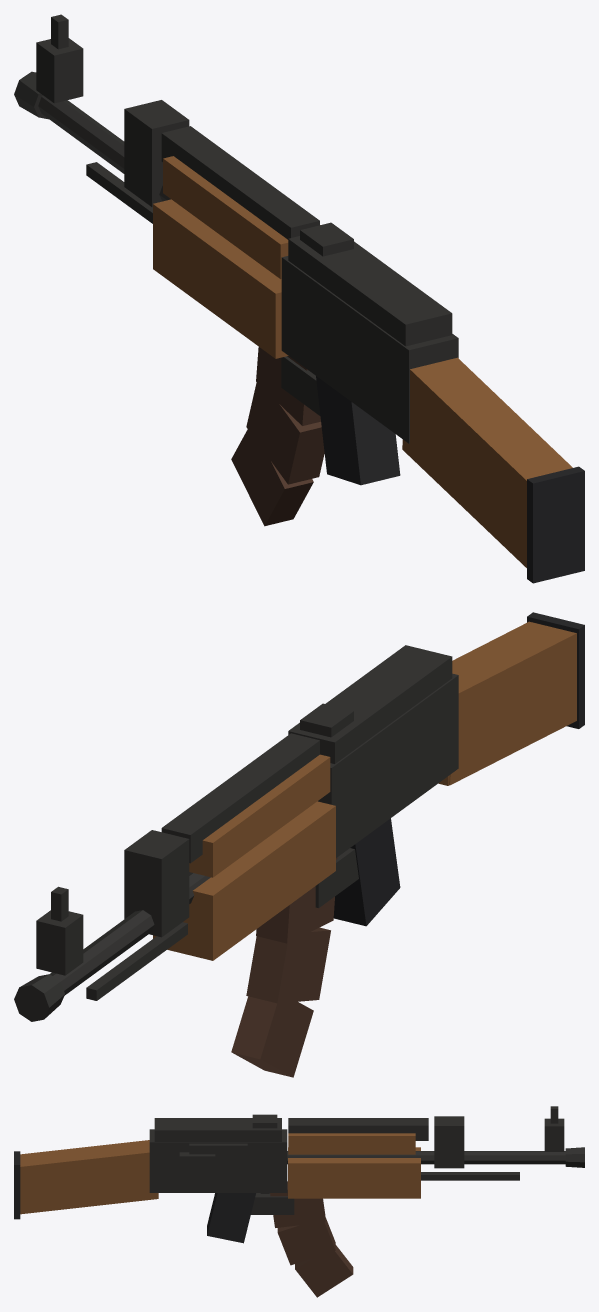
The picture shows the model from 3 angles, top to bottom: view 1: azimuth 30°, elevation 25°; view 2: azimuth 150°, elevation 25°; view 3: azimuth 270°, elevation 25°; orthographic projection. The views are drawn at different scales.
Visible parts, largest first — view 1: ak47; view 2: ak47; view 3: ak47.
Boxes of the visible parts, box(x1,y1,x2,y2) form: ak47: box(14, 14, 584, 583); ak47: box(14, 612, 584, 1077); ak47: box(14, 1106, 584, 1297).
Bounding box in the file's own units: 0.067 × 0.3167 × 0.88.
